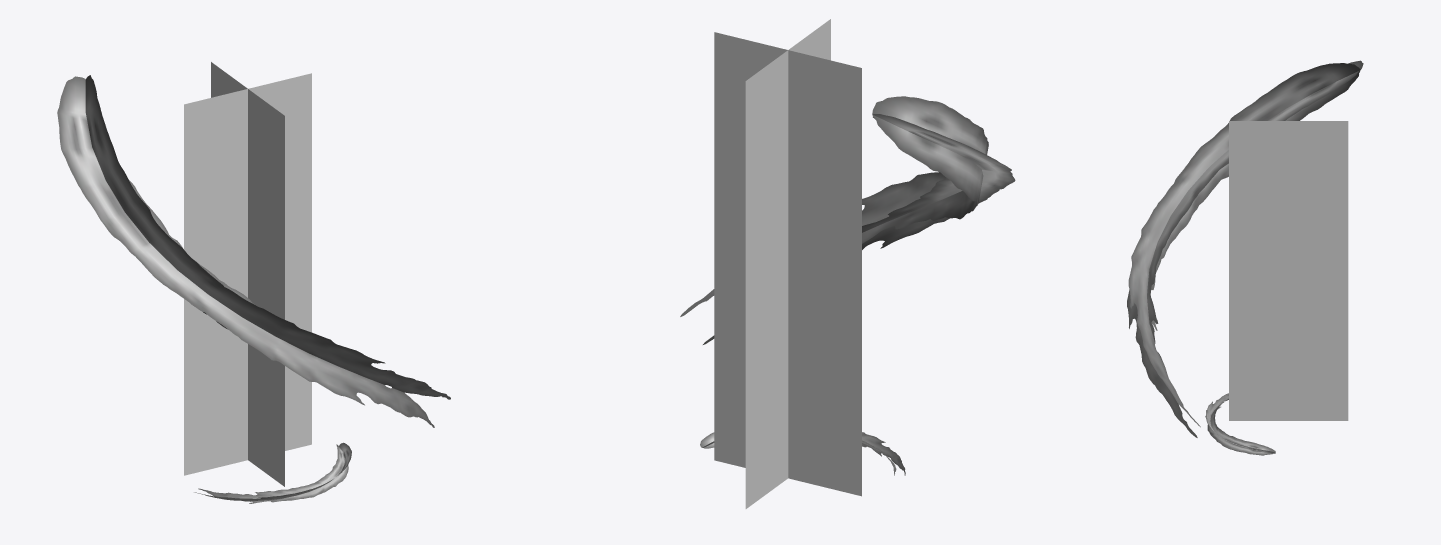
Rendered from E_ghostkeeper_attack.FBX.
3 renders of one model, left to right at view 1: azimuth 30°, elevation 25°; view 2: azimuth 150°, elevation 25°; view 3: azimuth 270°, elevation 25°, orthographic. The views are drawn at different scales.
Parts seen in each view (by area): view 1: Plane003, Plane002, Plane001; view 2: Plane003, Plane002, Plane001; view 3: Plane003, Plane002, Plane001.
Part boxes in pixels (x1,y1,x2,y2): Plane003: (184,62,311,486); Plane002: (57,75,450,427); Plane001: (194,442,351,503); Plane003: (714,19,861,508); Plane002: (680,96,1015,344); Plane001: (700,432,905,475); Plane003: (1229,121,1348,420); Plane002: (1127,60,1363,437); Plane001: (1205,393,1275,455).
Size of the model in its own units: 368 by 406 by 293.
Materials: 1 (1 with a texture image).
